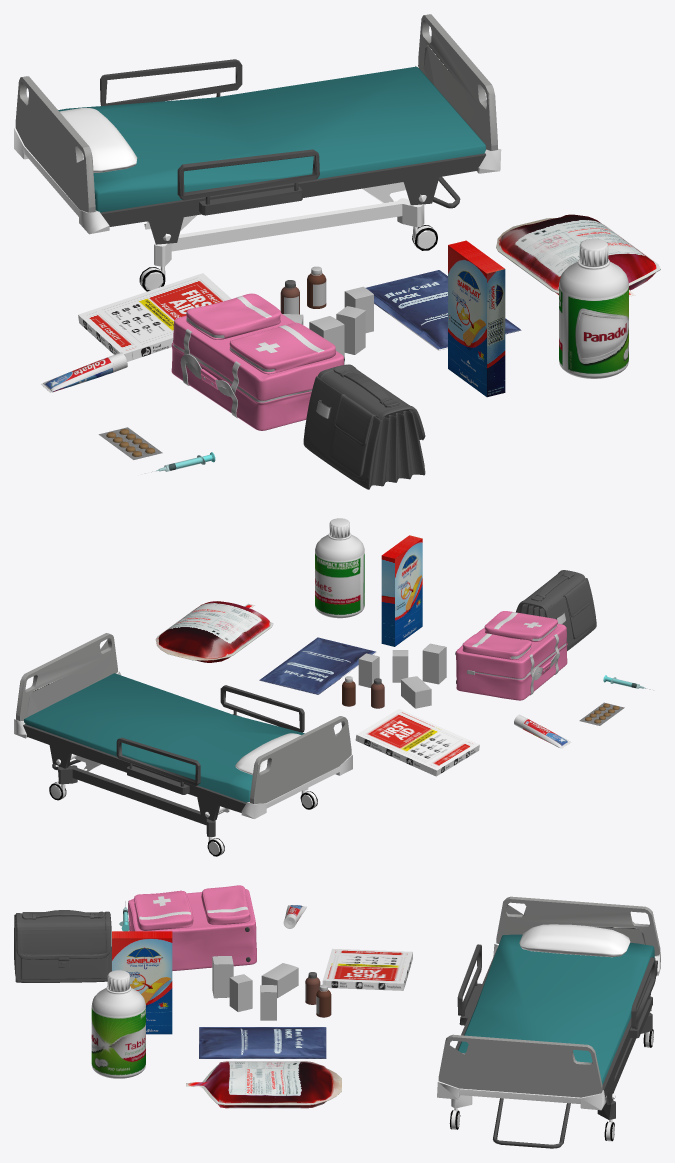
File: blood.fbx
3 views of the same model, one above another, from view 1: azimuth 30°, elevation 25°; view 2: azimuth 150°, elevation 25°; view 3: azimuth 270°, elevation 25° (orthographic). The views are drawn at different scales.
Parts seen in each view (by area): view 1: ChamferBox, medical bag, Object01, Cylinder.001, Cube, Cylinder, Box001, Cube.002, Object001, M_ToothPas, Archmodels70_020_46, Object004 (+3 smaller); view 2: ChamferBox, medical bag, Cylinder, Box001, Cylinder.001, Cube, Cube.002, Object01, Archmodels70_020_30, Object001, Archmodels70_020_37, M_ToothPas (+3 smaller); view 3: ChamferBox, medical bag, Object01, Cylinder, Cylinder.001, Cube, Cube.002, Box001, Object001, Archmodels70_020_37, Archmodels70_020_30, Archmodels70_020_46 (+3 smaller).
Boxes of the visible parts, x1,y1,x2,y2 form: ChamferBox: (14,14,501,291); medical bag: (171,293,344,430); Object01: (303,364,425,489); Cylinder.001: (559,238,628,378); Cube: (448,240,505,397); Cylinder: (496,214,660,296); Box001: (78,273,231,361); Cube.002: (366,270,521,350); Object001: (59,108,137,172); M_ToothPas: (41,352,127,392); Archmodels70_020_46: (336,306,365,354); Object004: (98,427,162,459); ChamferBox: (14,633,352,856); medical bag: (455,611,567,700); Cylinder: (155,601,273,662); Box001: (355,709,479,776); Cylinder.001: (315,518,364,618); Cube: (381,535,422,646); Cube.002: (259,637,376,694); Object01: (516,570,596,650); Archmodels70_020_30: (422,643,446,684); Object001: (235,733,300,774); Archmodels70_020_37: (401,676,431,708); M_ToothPas: (514,714,571,748); ChamferBox: (437,896,660,1148); medical bag: (128,885,256,970); Object01: (14,910,111,982); Cylinder: (186,1061,341,1108); Cylinder.001: (91,970,145,1078); Cube: (112,931,172,1034); Cube.002: (199,1027,326,1058); Box001: (322,948,412,990); Object001: (519,924,630,957); Archmodels70_020_37: (261,963,298,997); Archmodels70_020_30: (212,956,233,998); Archmodels70_020_46: (229,974,252,1011).
Bounding box in the file's own units: 1677 × 473 × 2022.
